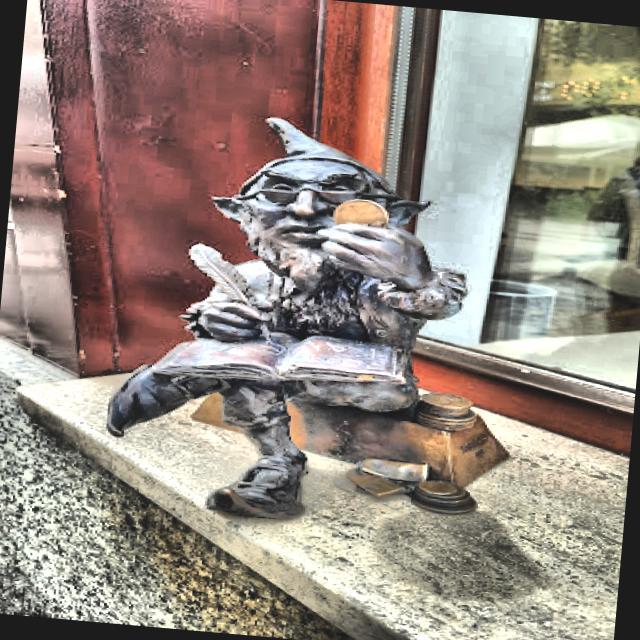Gaugan: (106, 119, 509, 521)
